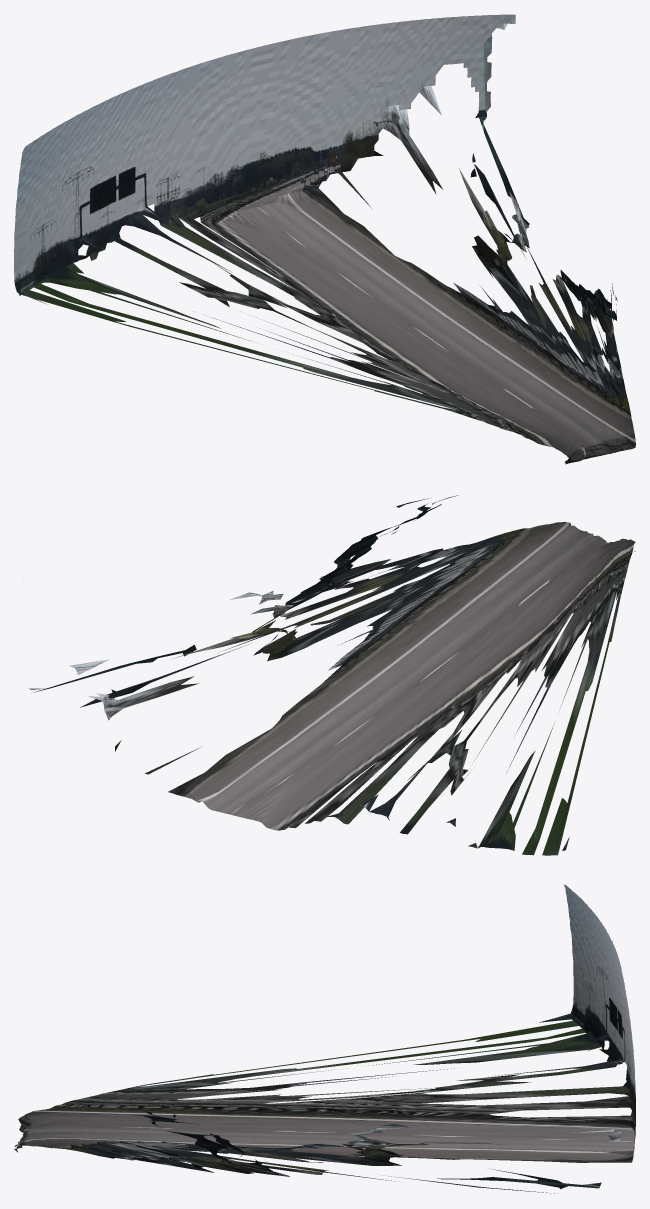
3 renders of one model, top to bottom at view 1: azimuth 30°, elevation 25°; view 2: azimuth 150°, elevation 25°; view 3: azimuth 270°, elevation 25°, orthographic. The views are drawn at different scales.
Parts seen in each view (by area): view 1: defaultobject; view 2: defaultobject; view 3: defaultobject.
Part boxes in pixels (box(x1,y1,x2,y2)): defaultobject: box(14, 14, 635, 464); defaultobject: box(23, 495, 635, 855); defaultobject: box(14, 884, 635, 1193).
Bounding box in the file's own units: 37.55 × 12.09 × 44.58.
1 material, 1 textured.
